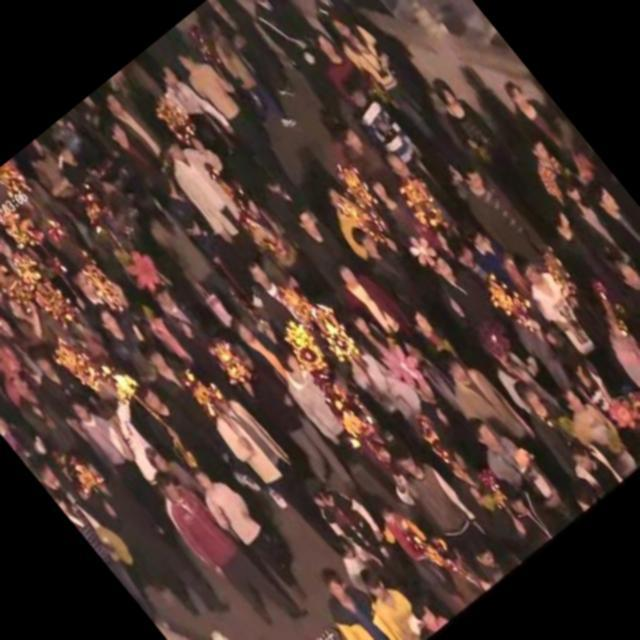person: (63, 437, 245, 640), (139, 452, 311, 640), (252, 322, 410, 502), (214, 334, 358, 502), (319, 0, 465, 162), (193, 374, 332, 534), (334, 68, 470, 222), (171, 36, 305, 189), (296, 457, 430, 608), (150, 124, 280, 274), (128, 182, 258, 332), (374, 435, 505, 580), (456, 398, 584, 542), (146, 54, 271, 196), (193, 7, 314, 146), (335, 289, 456, 423), (219, 0, 355, 119), (188, 456, 302, 586), (427, 336, 542, 462), (127, 371, 242, 496), (337, 210, 449, 336), (506, 244, 616, 371), (144, 167, 254, 293), (320, 250, 430, 372), (364, 490, 471, 611), (551, 329, 640, 470), (415, 237, 511, 343), (433, 443, 528, 550), (299, 553, 410, 640), (552, 376, 640, 485), (138, 266, 232, 368), (272, 189, 366, 290), (579, 288, 640, 439), (380, 140, 464, 237), (328, 115, 411, 208), (302, 18, 384, 109), (235, 249, 317, 339), (85, 294, 166, 383), (98, 82, 178, 172), (352, 558, 439, 640), (17, 334, 98, 421), (91, 105, 169, 191), (418, 526, 496, 611), (4, 367, 80, 454), (359, 167, 435, 250), (603, 236, 640, 406), (52, 136, 126, 218), (554, 426, 628, 506), (16, 132, 89, 210), (484, 474, 556, 553), (0, 370, 51, 478), (457, 215, 522, 291), (447, 230, 511, 304), (327, 524, 392, 592), (291, 0, 406, 32), (61, 255, 110, 308), (402, 595, 452, 640), (0, 252, 25, 319), (0, 219, 27, 273)
